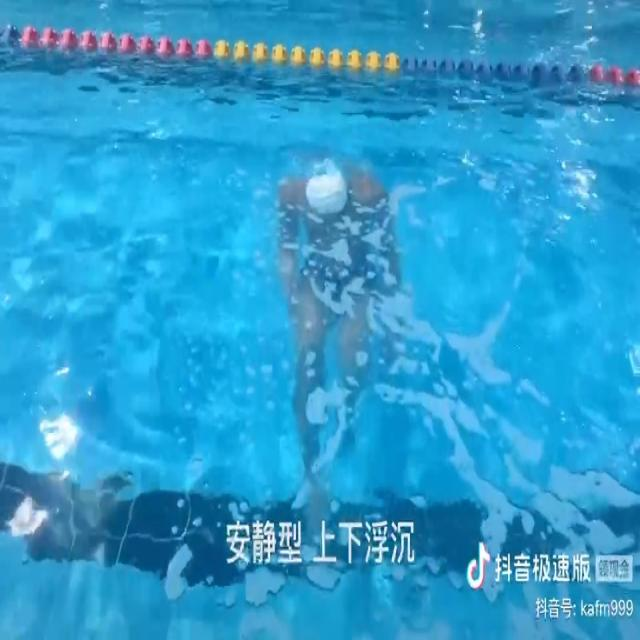Drowning: (275, 168, 401, 474)
